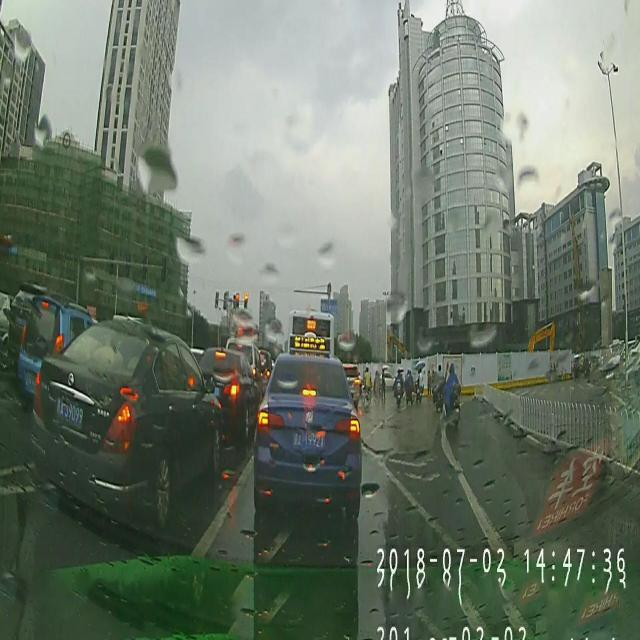car: (31, 322, 228, 520), (250, 352, 364, 524), (15, 292, 90, 403), (194, 344, 260, 438)
